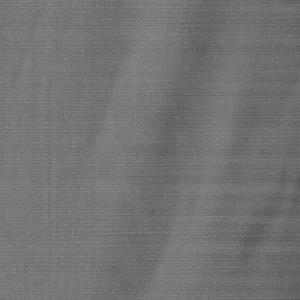Wrinkle: (78, 1, 300, 300)
